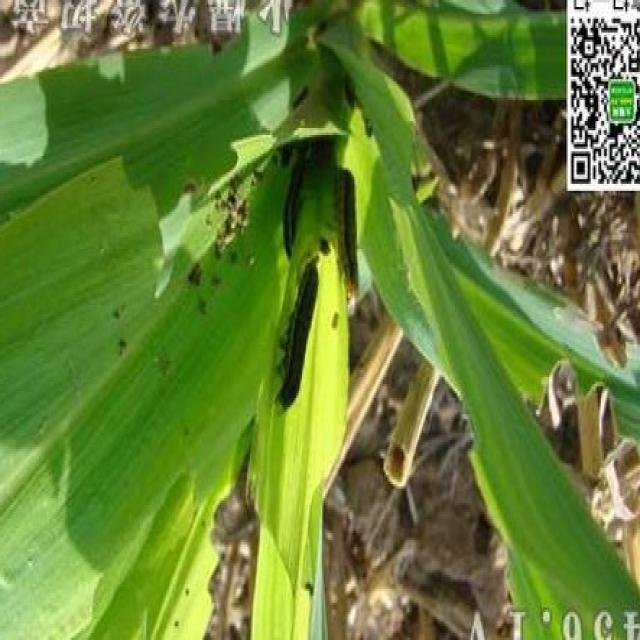army worm: (281, 245, 320, 424), (331, 166, 363, 297)
